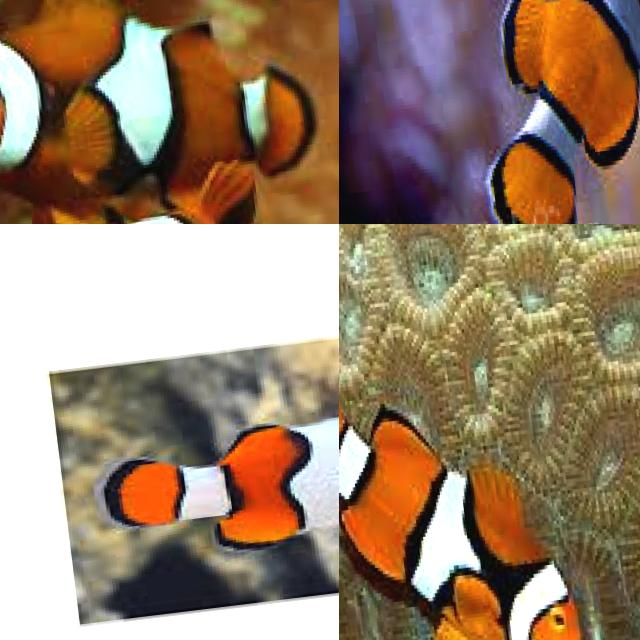Amphiprion-percula: (339, 329, 640, 640), (0, 0, 339, 224), (91, 349, 339, 615), (379, 0, 640, 224), (4, 129, 339, 224), (339, 0, 521, 163)
